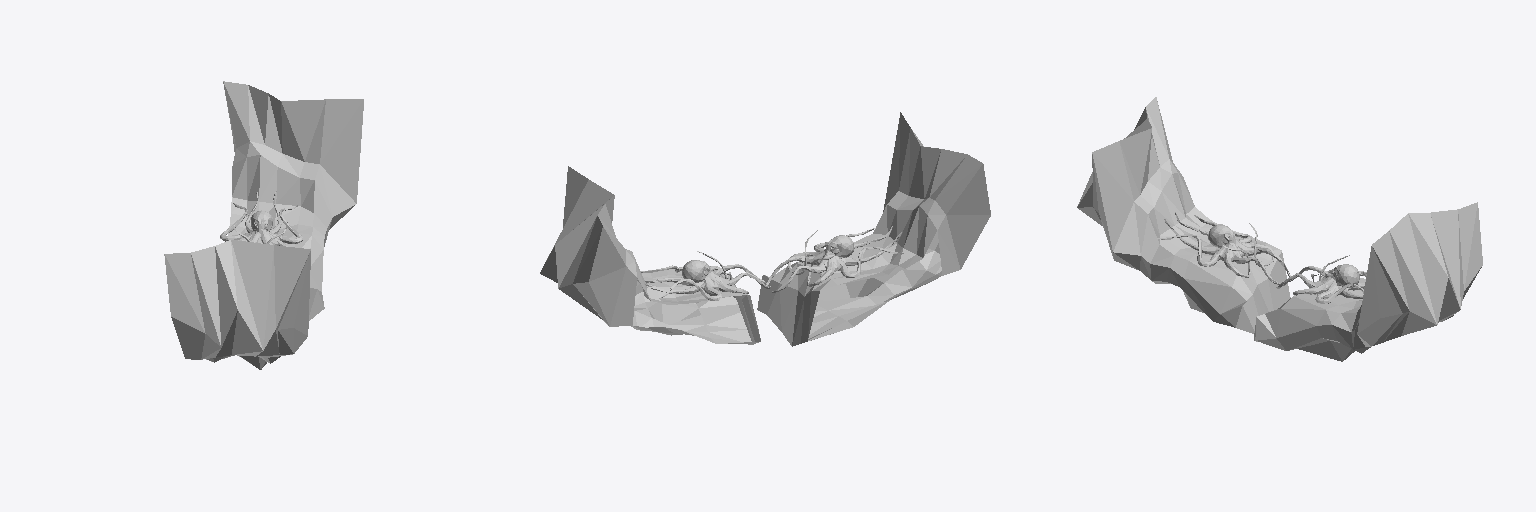
The model's file is nautica_01.obj.
The picture shows the model from 3 angles: view 1: azimuth 30°, elevation 25°; view 2: azimuth 150°, elevation 25°; view 3: azimuth 270°, elevation 25°; orthographic projection.
Visible parts, largest first — view 1: Symmetry; view 2: Symmetry; view 3: Symmetry.
Part boxes in pixels (left/top/right/bottom): Symmetry: left=164, top=81, right=363, bottom=369; Symmetry: left=540, top=112, right=990, bottom=346; Symmetry: left=1077, top=97, right=1482, bottom=361.
Bounding box in the file's own units: 158 × 84.48 × 180.